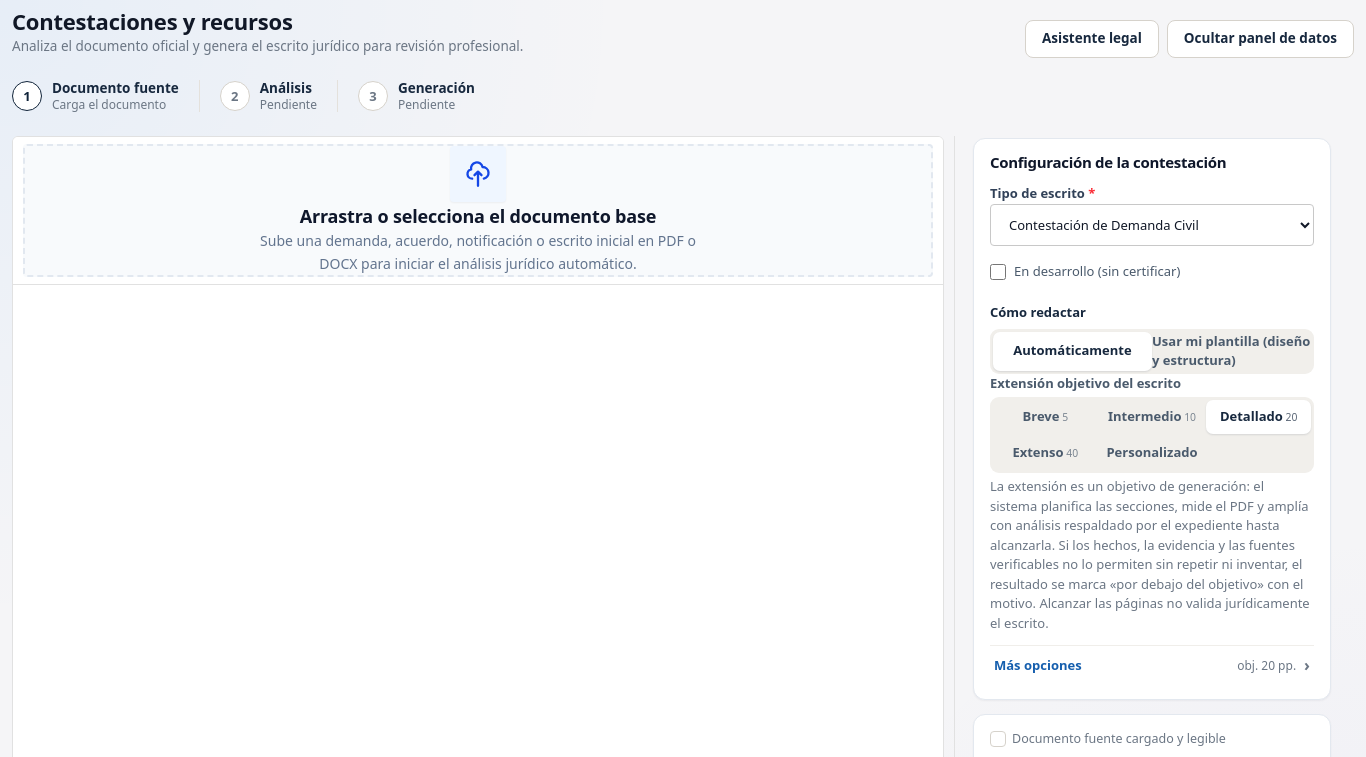
Test case: workspace jurídico de escritorio › inicia con el inspector abierto y permite plegarlo sin desmontar su contenido
The width and height of the screenshot is (1366, 757).
Expected: the element with test id "document-inspector" shows "Configuración", [990,152,1226,172]
What coordinates should you click on to do the following:
click the button "Ocultar panel de datos"
I would click on:
 (1260, 39)
Its box is [1167,20,1354,58].
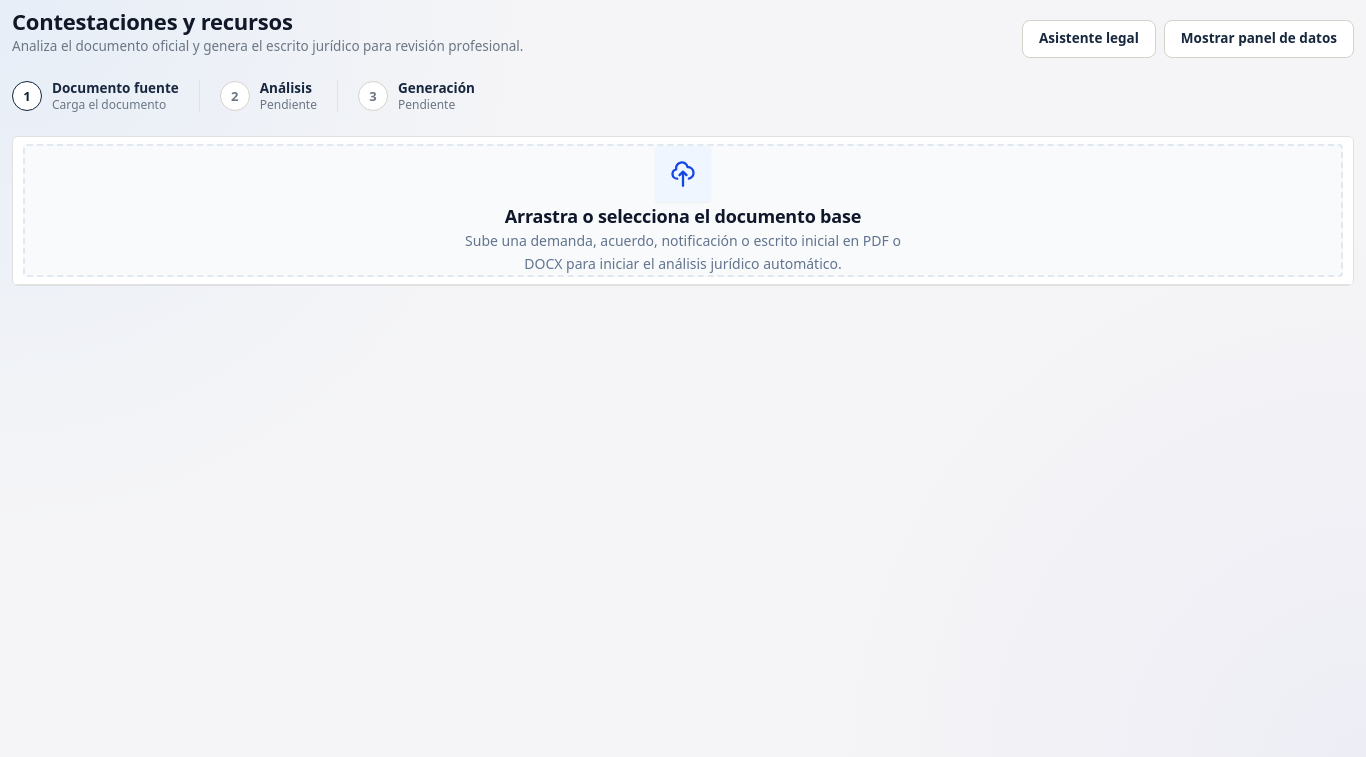
Result: the button "Mostrar panel de datos" is collapsed at [1164,20,1354,58]
